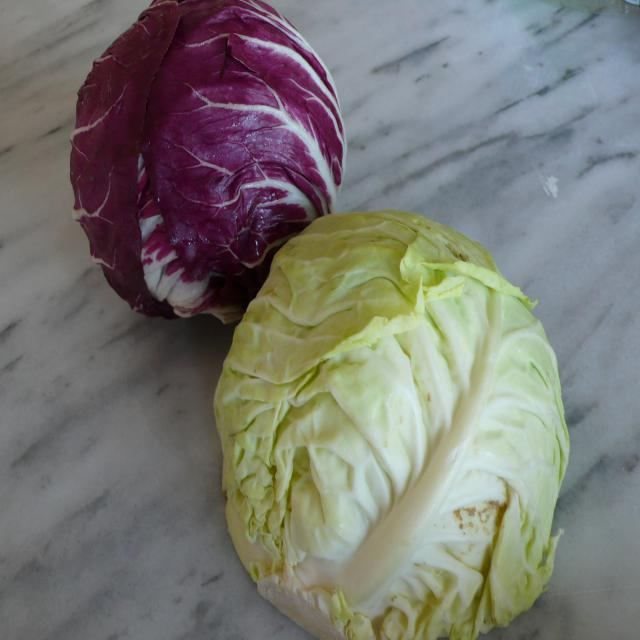cabbage: (210, 203, 571, 639), (64, 0, 351, 334)
